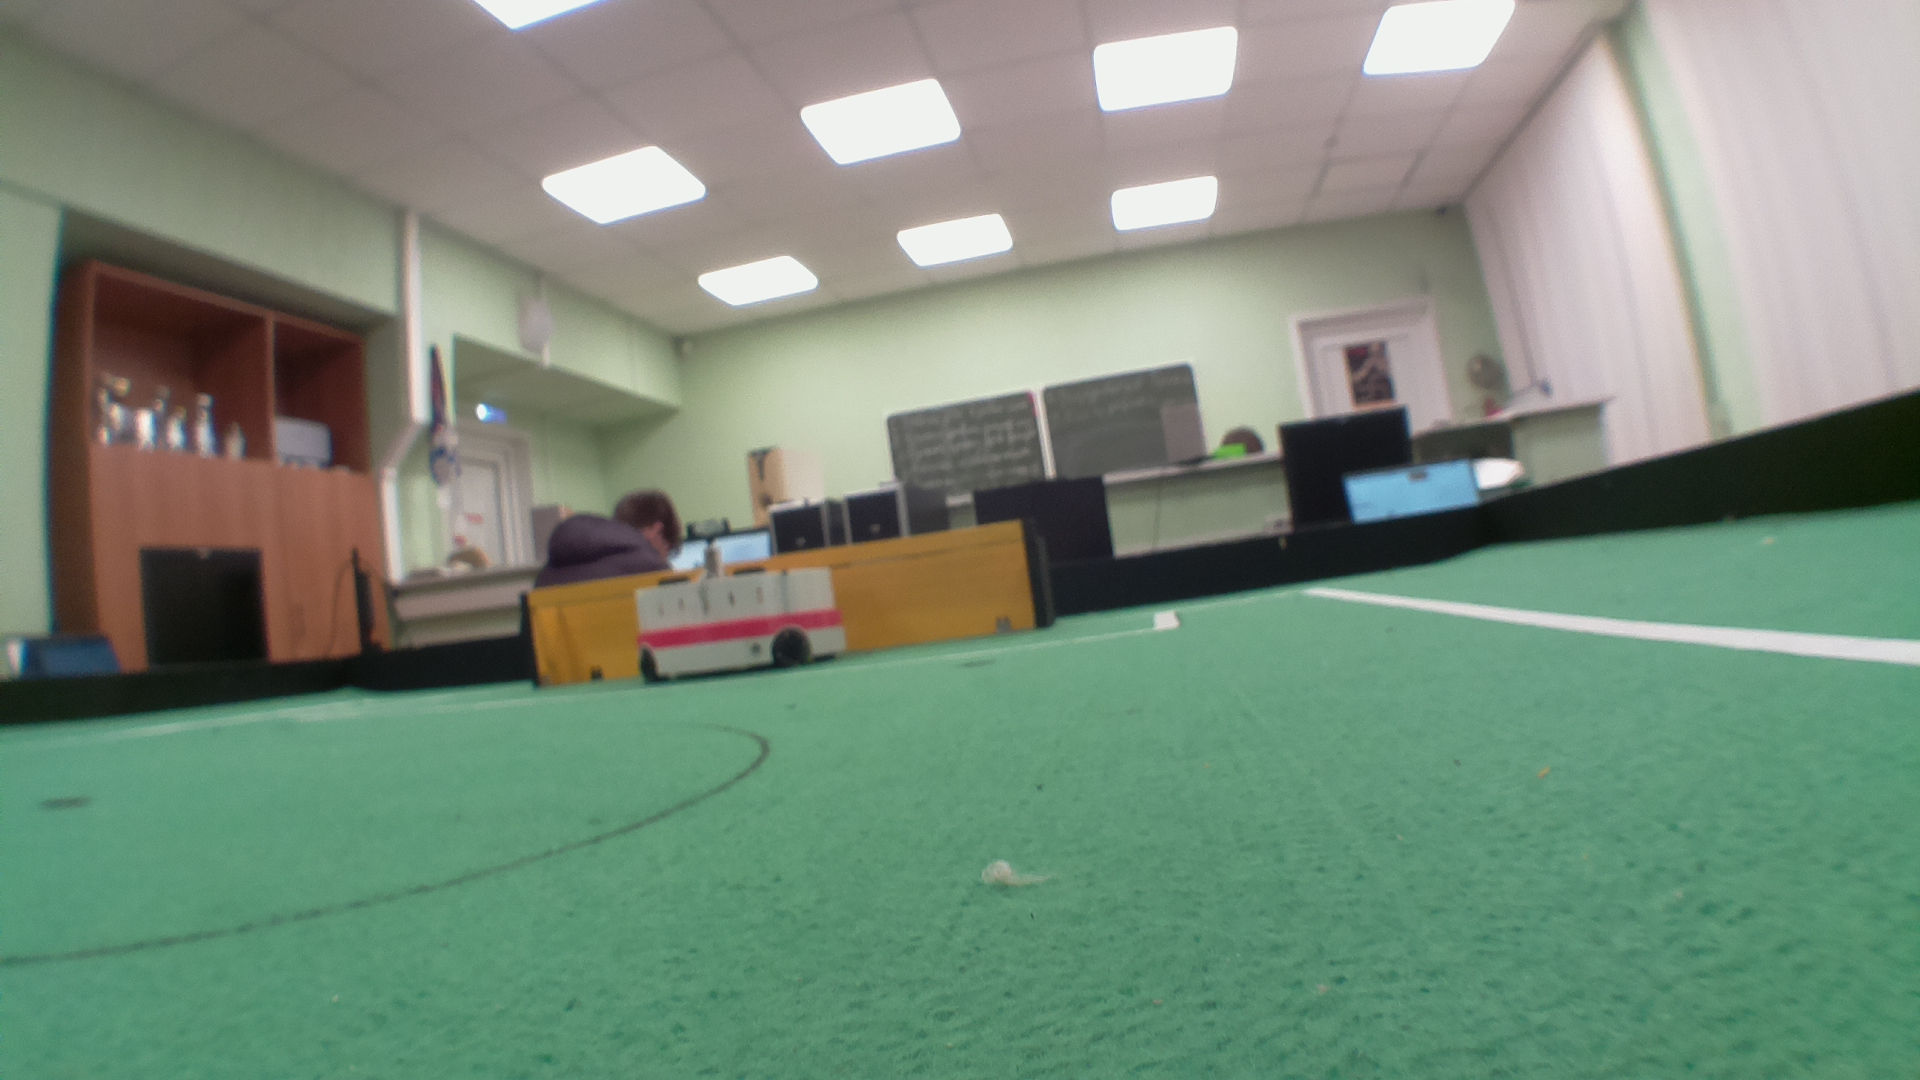YellowGoal: (530, 524, 1040, 686)
